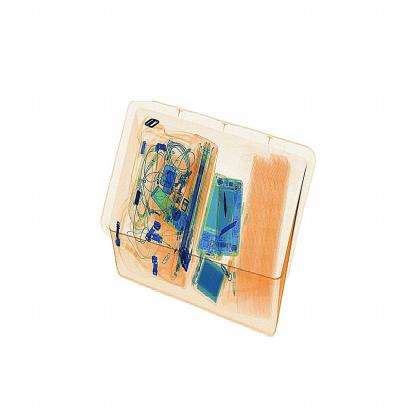pliers: (217, 210, 243, 245)
